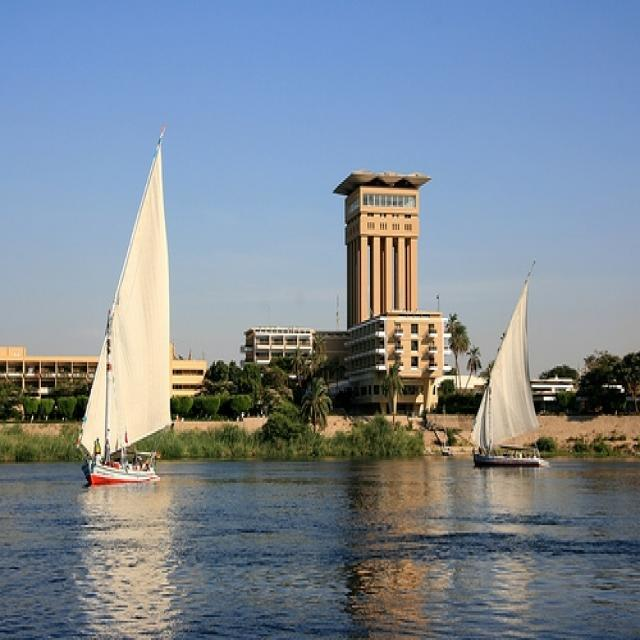Ship: (71, 126, 182, 493), (459, 252, 540, 492), (550, 474, 553, 479)
